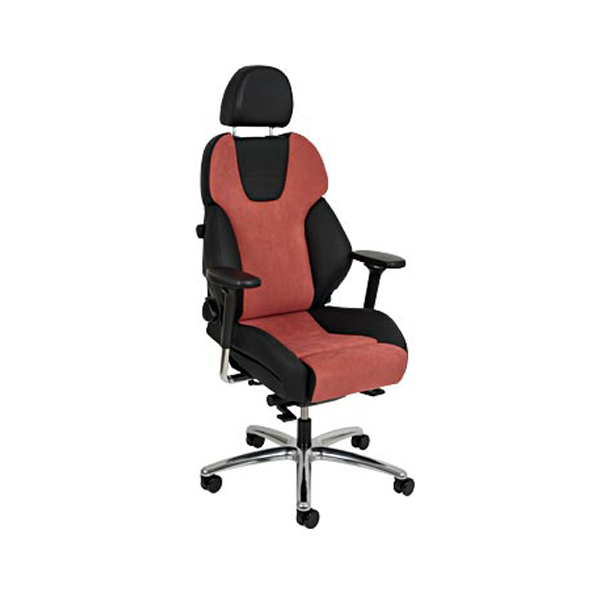chairs: (196, 60, 417, 534)
